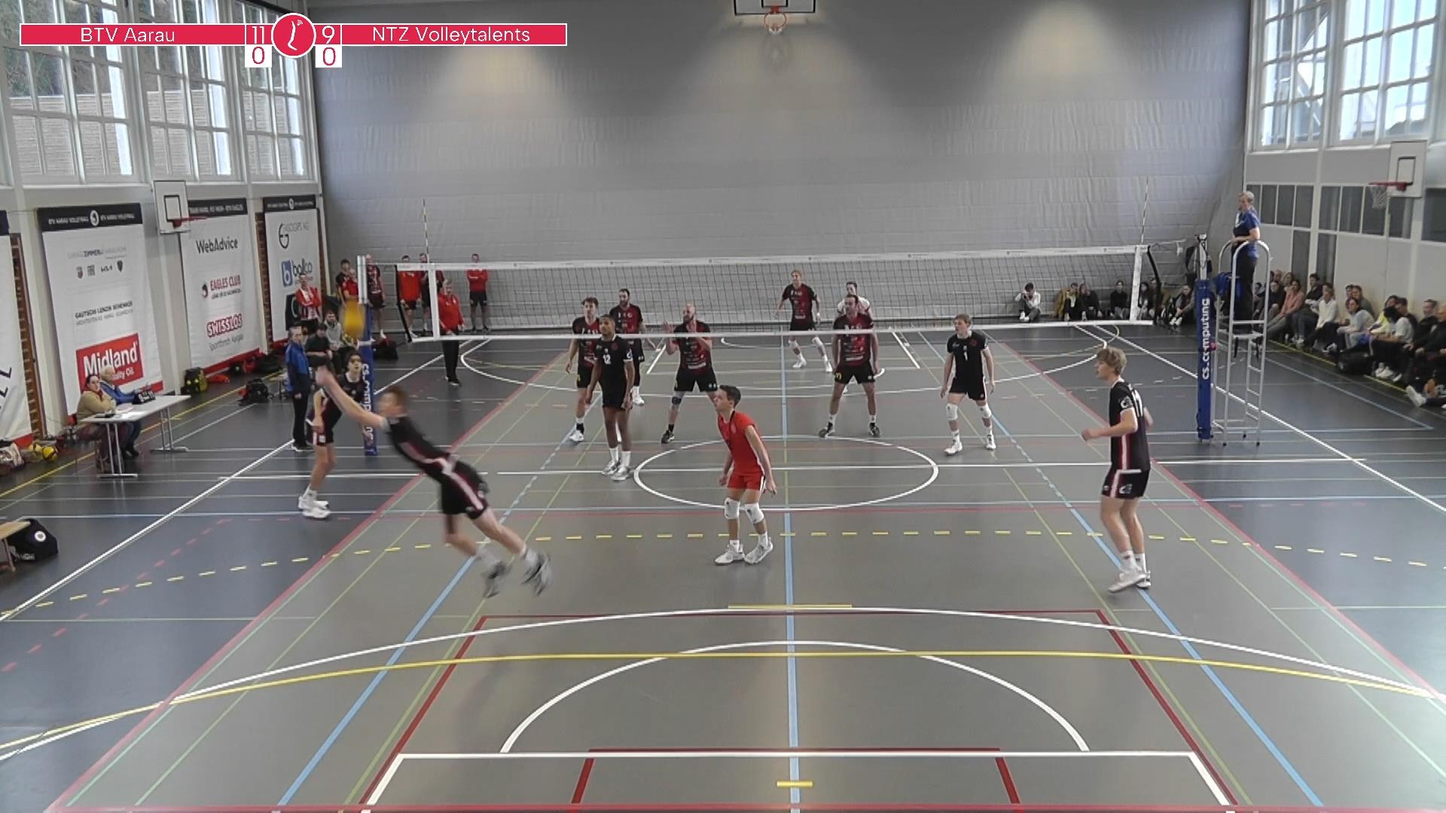Dig: (318, 370, 554, 586)
Player: (1081, 347, 1152, 592), (714, 385, 776, 564), (660, 303, 718, 444), (585, 315, 634, 481), (941, 313, 996, 453), (819, 332, 879, 437), (298, 387, 342, 519), (565, 297, 600, 443), (776, 269, 819, 330), (837, 282, 871, 317), (628, 338, 644, 405)
ball: (338, 305, 368, 338)
